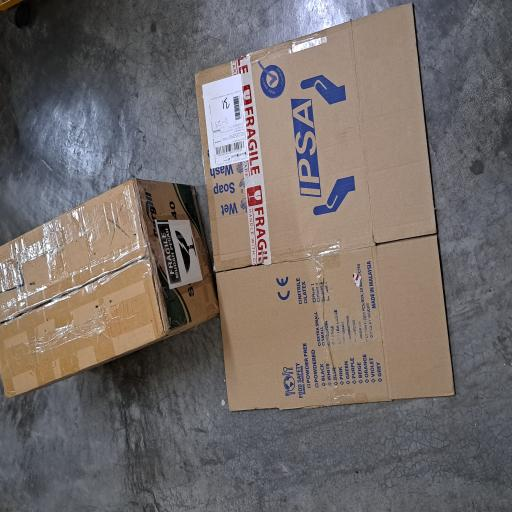cardboard: (74, 257, 384, 512), (84, 0, 248, 291)
